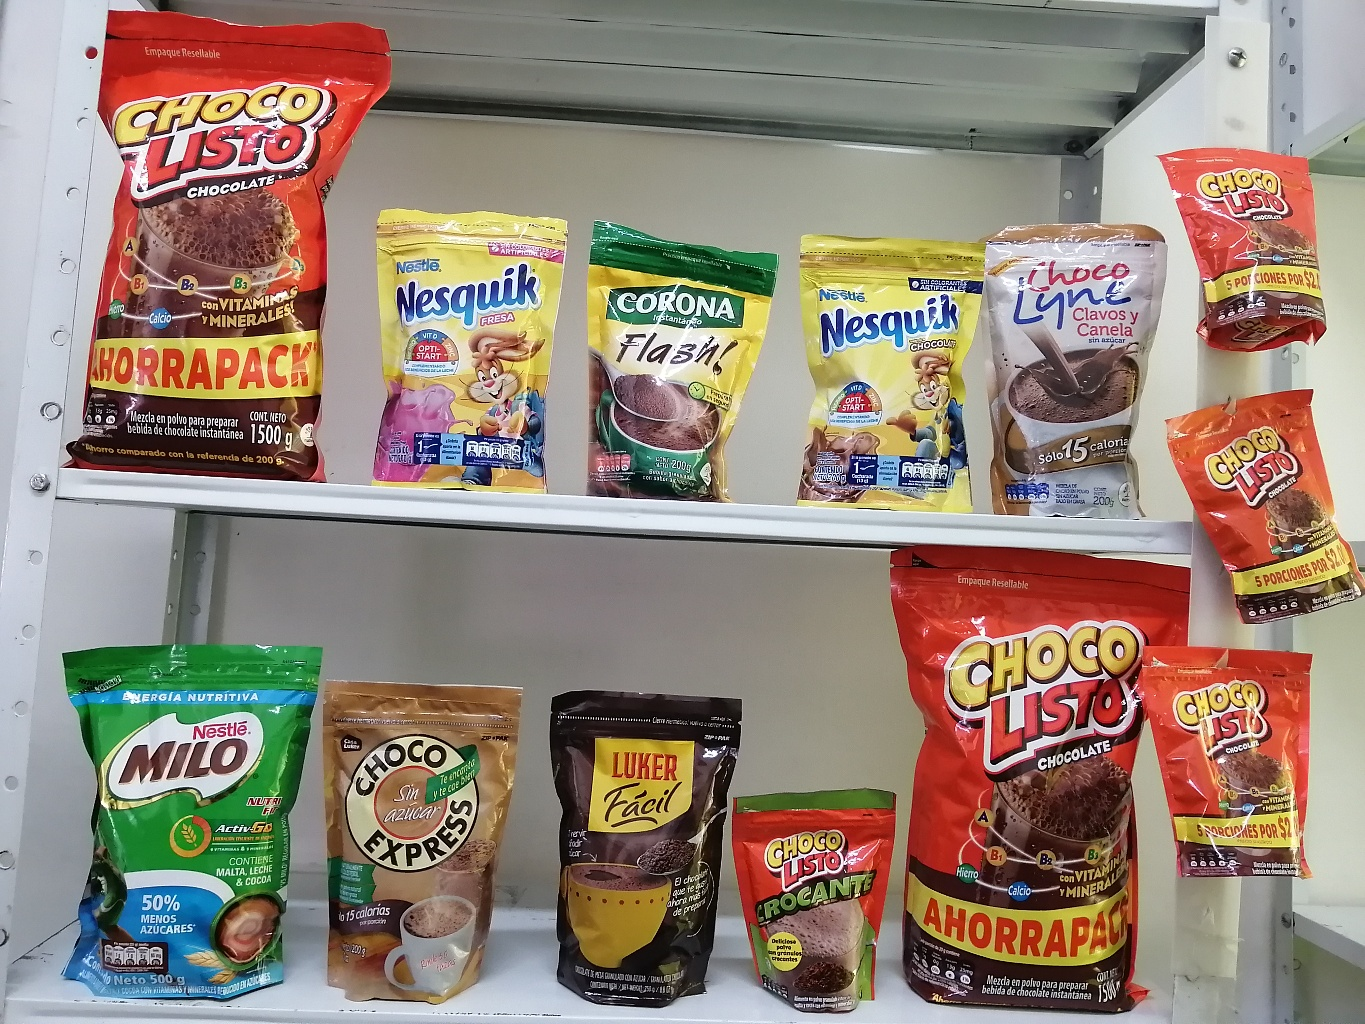COL0170102DYP10000: (721, 770, 909, 1019)
COL0170103DYP1,500: (870, 532, 1183, 1021)
COL0170103DYP10000: (1142, 128, 1352, 362)
COL0170205DYP50000: (46, 625, 323, 1015)
COL0170303DYP20000: (785, 215, 997, 523)
COL0170305DYP20000: (354, 193, 572, 501)
